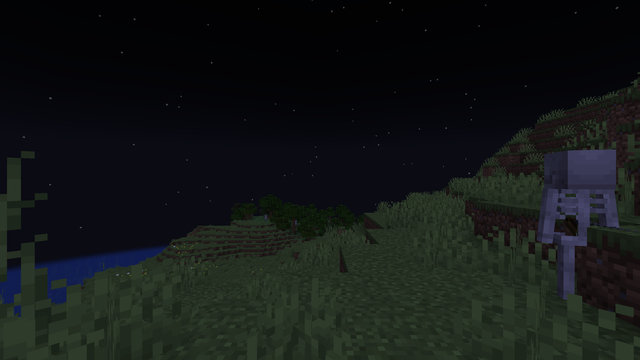squelettes: (536, 150, 612, 309)
